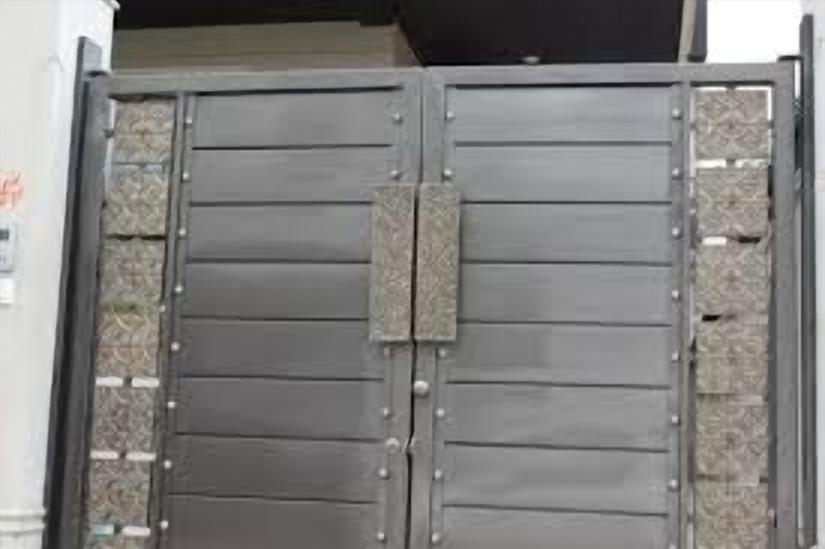Gate: (56, 57, 803, 549)
